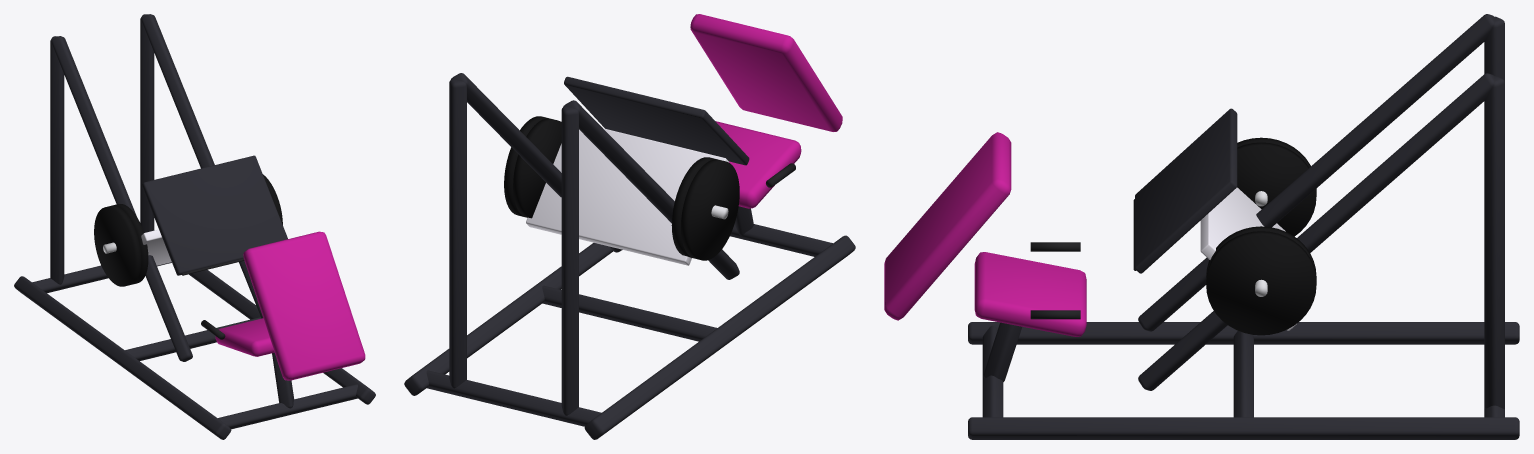
Rendered from prensa-45.glb.
The picture shows the model from 3 angles, left to right: view 1: azimuth 30°, elevation 25°; view 2: azimuth 150°, elevation 25°; view 3: azimuth 270°, elevation 25°; orthographic projection. The views are drawn at different scales.
Visible parts, largest first — view 1: carro, Cube.001, Cylinder.005, Cylinder, Cylinder.006, Cylinder.007, Cylinder.008, Cylinder.002, Cylinder.001, Cube, Cylinder.003, Cylinder.004 (+1 smaller); view 2: carro, Cube.001, Cylinder, Cylinder.006, Cylinder.008, Cylinder.001, Cube, Cylinder.005, Cylinder.004, Cylinder.003, Cylinder.007, Cylinder.002; view 3: carro, Cylinder.001, Cube.001, Cylinder, Cylinder.005, Cylinder.007, Cube, Cylinder.008, Cylinder.003, Cylinder.002, Cylinder.009, Cylinder.006.
Part boxes in pixels (x1,y1,x2,y2): carro: [94, 155, 287, 286]; Cube.001: [243, 231, 365, 380]; Cylinder.005: [51, 36, 192, 361]; Cylinder: [14, 276, 231, 439]; Cylinder.006: [50, 36, 64, 284]; Cylinder.007: [141, 14, 263, 318]; Cylinder.008: [140, 14, 154, 232]; Cylinder.002: [218, 384, 357, 429]; Cylinder.001: [189, 269, 375, 404]; Cube: [215, 318, 274, 356]; Cylinder.003: [125, 317, 261, 360]; Cylinder.004: [32, 262, 171, 293]; carro: [504, 76, 749, 265]; Cube.001: [690, 14, 842, 131]; Cylinder: [584, 235, 855, 439]; Cylinder.006: [561, 106, 578, 415]; Cylinder.008: [449, 79, 466, 388]; Cylinder.001: [404, 243, 613, 395]; Cube: [715, 121, 801, 208]; Cylinder.005: [563, 100, 739, 279]; Cylinder.004: [426, 370, 601, 426]; Cylinder.003: [542, 285, 717, 341]; Cylinder.007: [451, 73, 622, 252]; Cylinder.002: [730, 223, 832, 256]; carro: [1133, 108, 1316, 335]; Cylinder.001: [968, 417, 1519, 439]; Cube.001: [884, 132, 1011, 320]; Cylinder: [968, 322, 1519, 344]; Cylinder.005: [1138, 14, 1494, 331]; Cylinder.007: [1138, 73, 1494, 390]; Cube: [974, 252, 1086, 336]; Cylinder.008: [1484, 76, 1504, 408]; Cylinder.003: [1233, 330, 1253, 417]; Cylinder.002: [982, 325, 1003, 417]; Cylinder.009: [983, 322, 1021, 381]; Cylinder.006: [1484, 16, 1504, 81].
Size of the model in its own units: 1.03 by 1.53 by 2.53.
